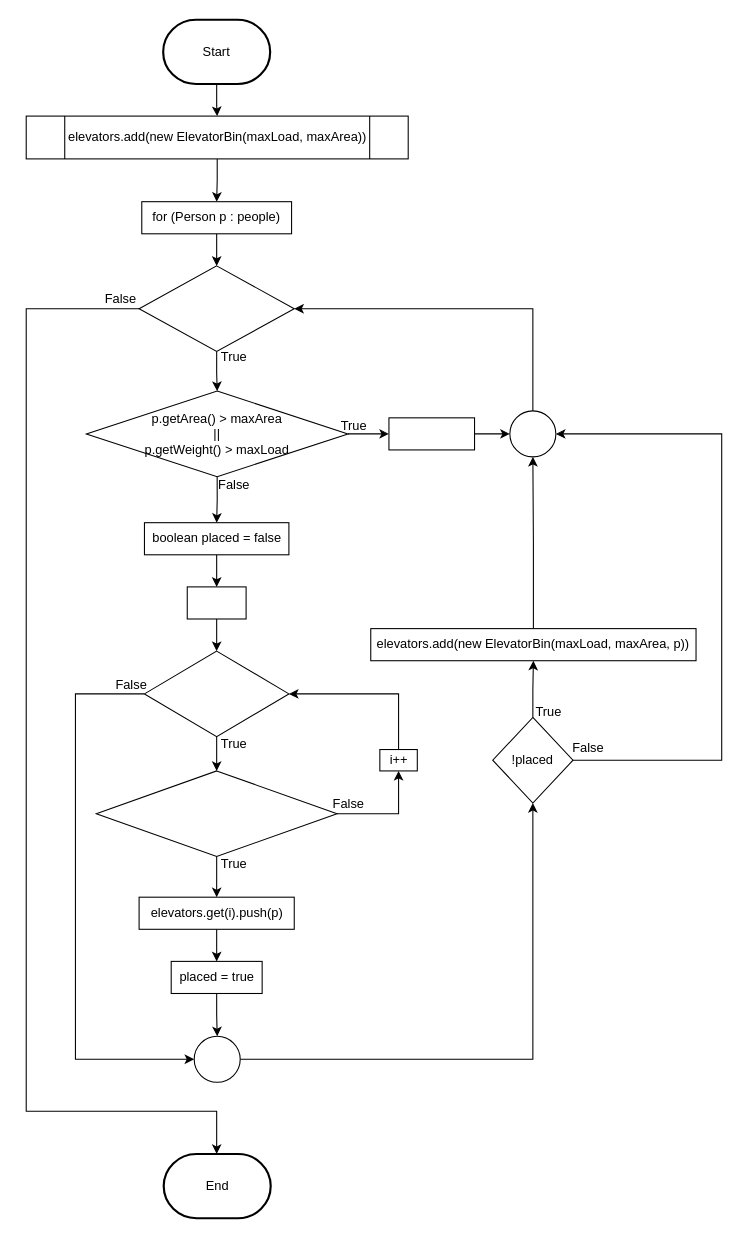
Image size: 749x1237. Some labels were removed from this diagram. The box of each missing label's shape, as (x1, y1, x2, y2) in pixels:
cannotFit++: (388, 417, 475, 450)
elevators.get(i).canHandle(p): (95, 770, 337, 857)
i < elevators.size(): (143, 650, 289, 737)
int i = 0: (186, 586, 246, 619)
more person in people: (138, 265, 294, 351)
